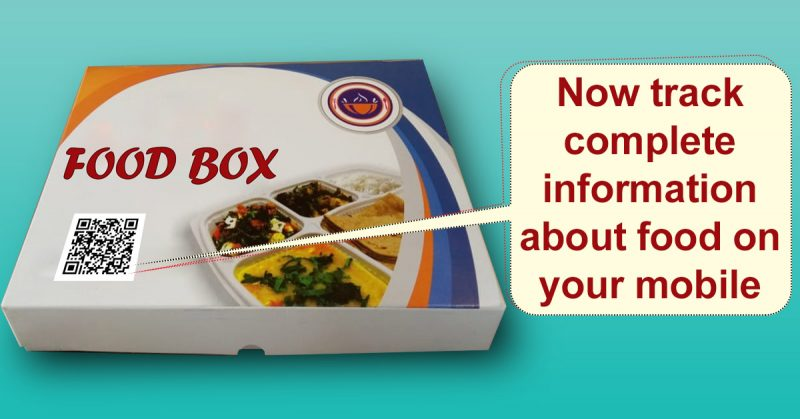qr_code: (60, 209, 140, 281)
